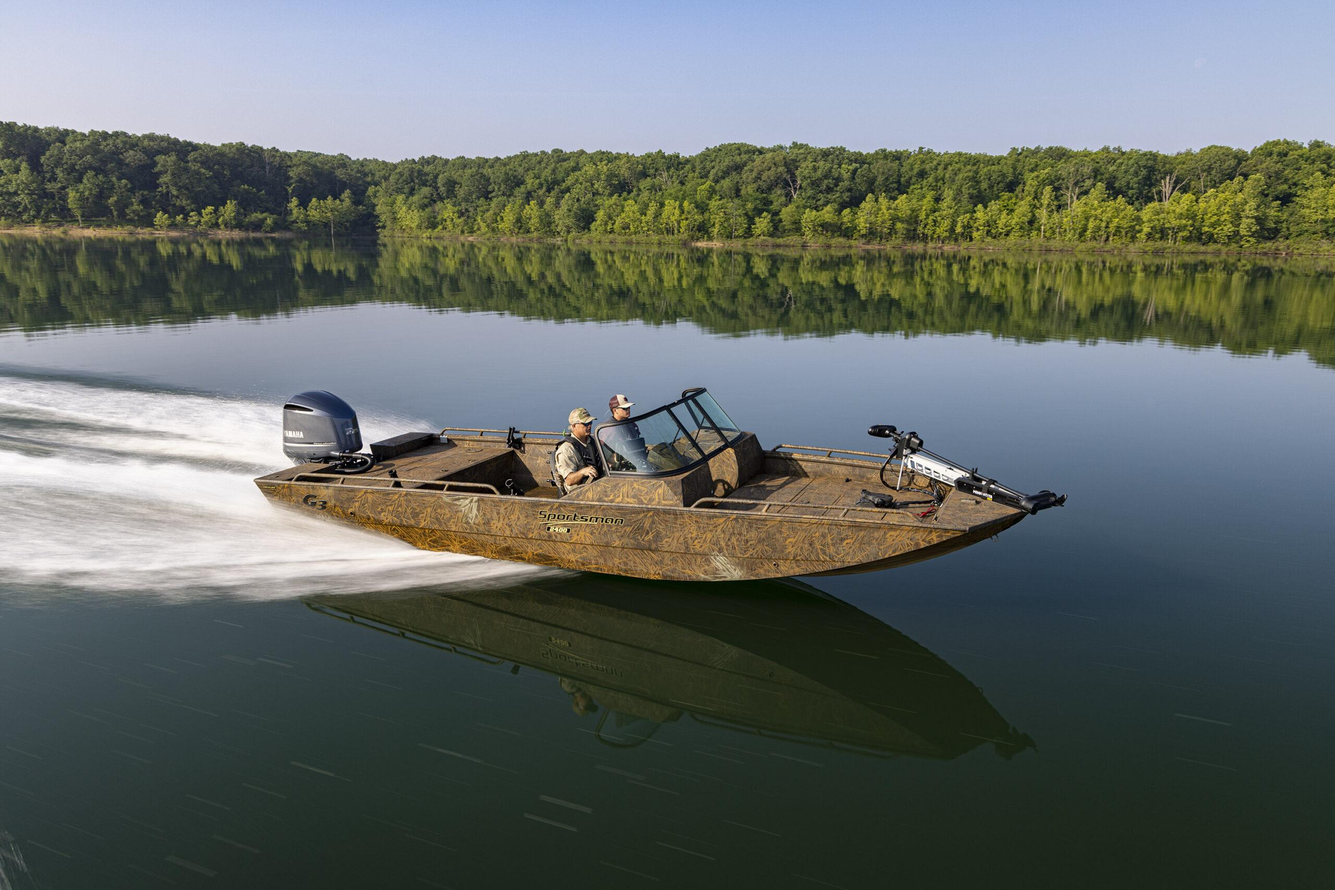fishing boat: (245, 379, 1073, 588)
